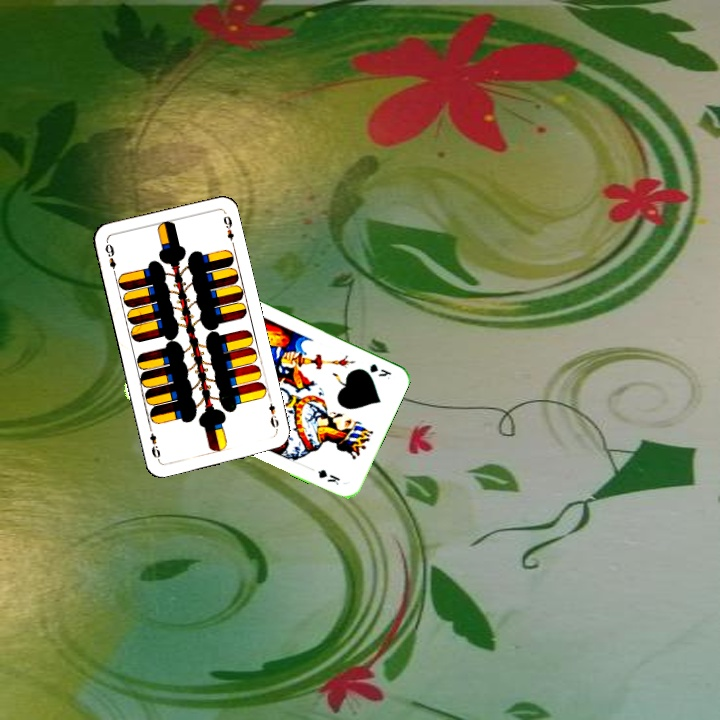E9: (101, 240, 119, 278), (264, 399, 281, 434)
GK: (366, 360, 394, 382)
